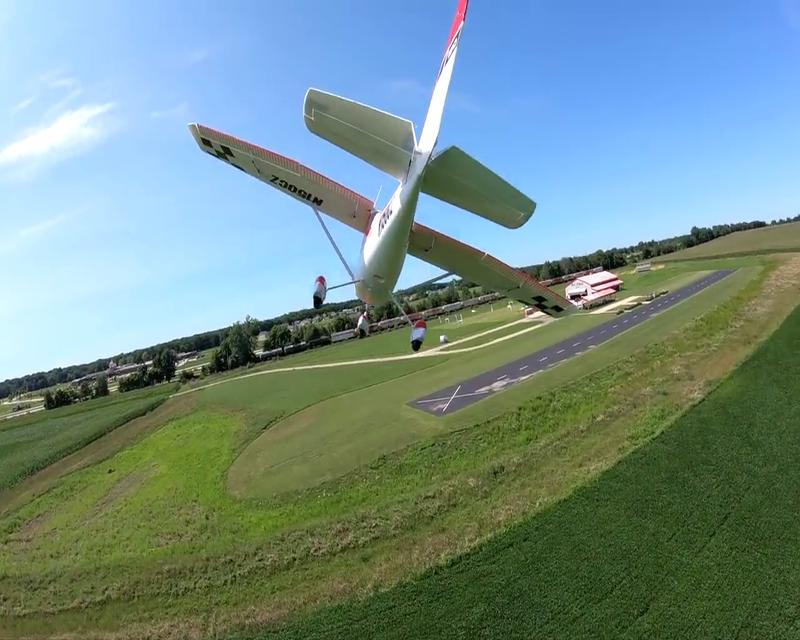UAV: (187, 0, 582, 348)
